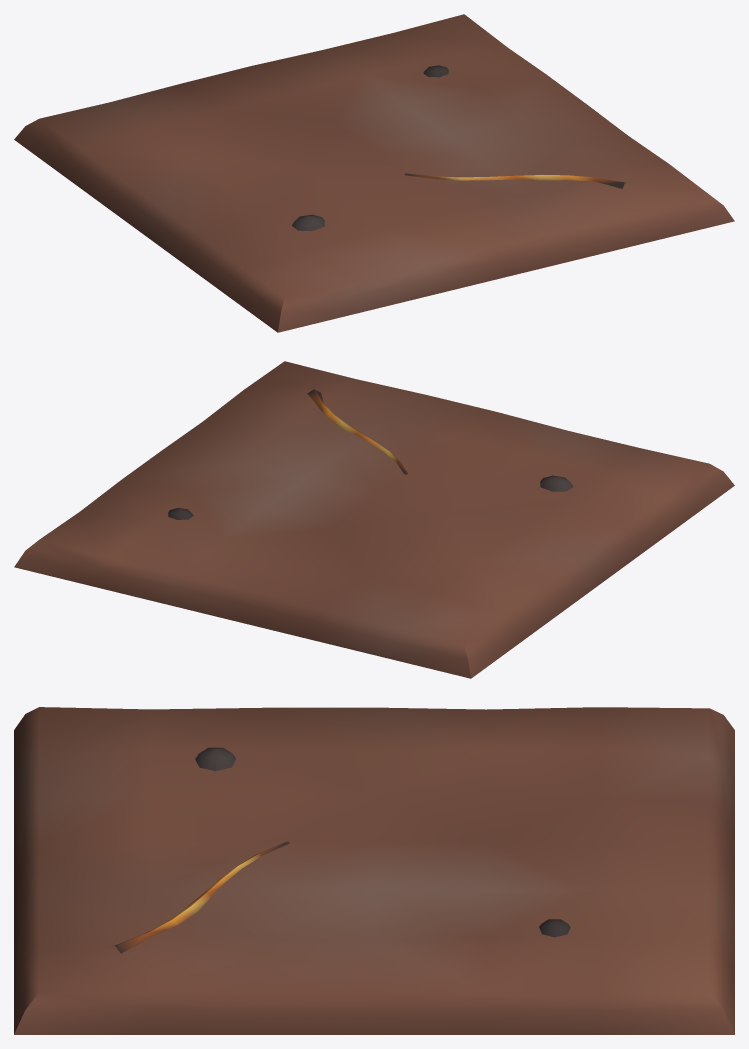
The model's file is EmberTileB.fbx.
3 renders of one model, top to bottom at view 1: azimuth 30°, elevation 25°; view 2: azimuth 150°, elevation 25°; view 3: azimuth 270°, elevation 25°, orthographic. The views are drawn at different scales.
Visible parts, largest first — view 1: EmberTileB; view 2: EmberTileB; view 3: EmberTileB.
Boxes of the visible parts, x1,y1,x2,y2 form: EmberTileB: (14,14,734,332); EmberTileB: (14,361,734,678); EmberTileB: (14,707,734,1034).
Bounding box in the file's own units: 1 × 0.0757 × 1.
